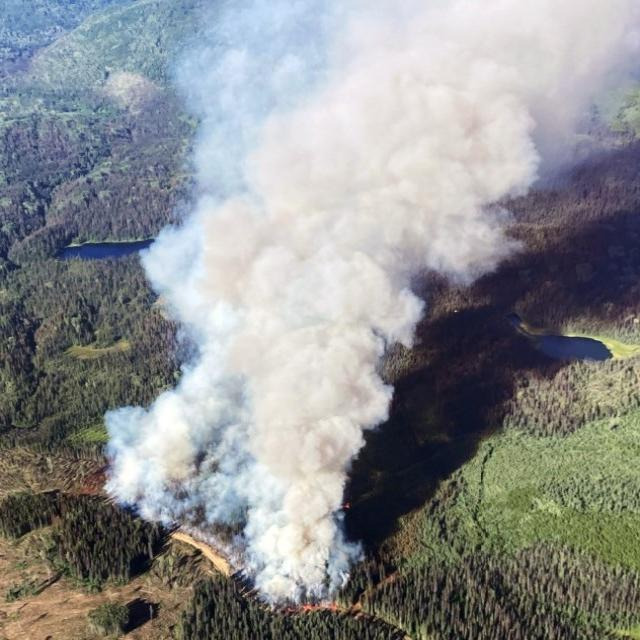Smoke: (96, 0, 640, 611)
